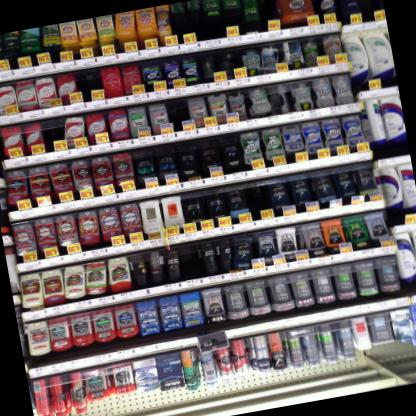empty_space: (167, 79, 192, 134), (39, 105, 64, 145), (350, 0, 370, 12)
